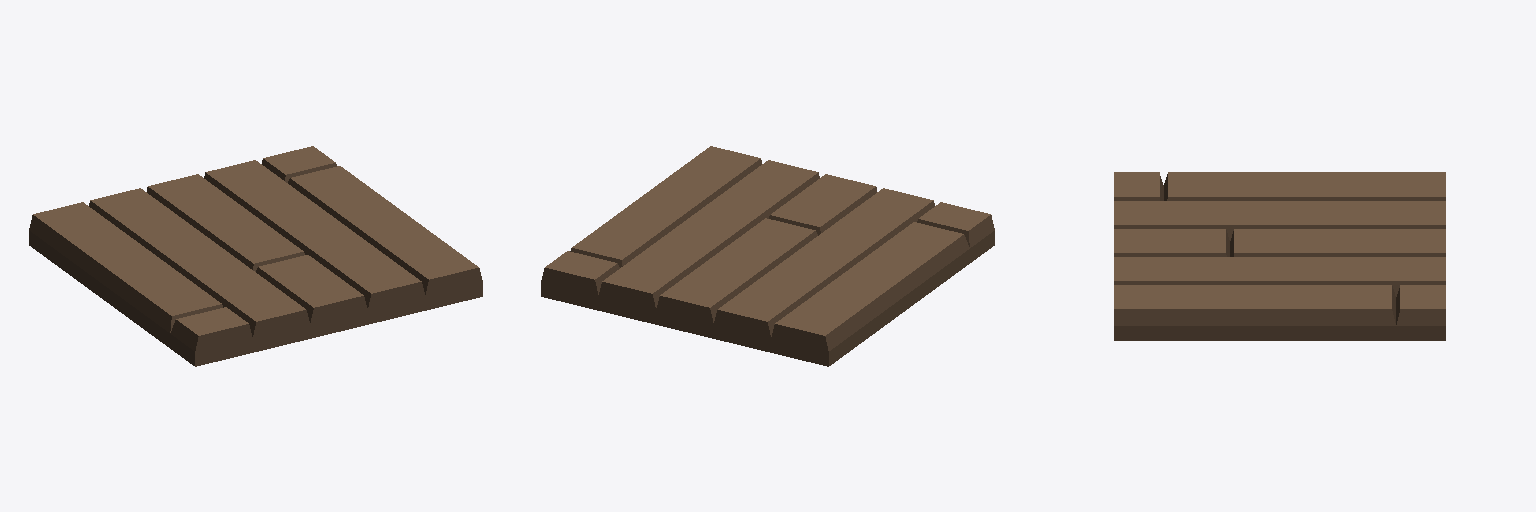
The model's file is Wood_Floor_Straight_4.obj.
3 renders of one model, left to right at view 1: azimuth 30°, elevation 25°; view 2: azimuth 150°, elevation 25°; view 3: azimuth 270°, elevation 25°, orthographic.
Visible parts, largest first — view 1: object1; view 2: object1; view 3: object1.
Part boxes in pixels (x1,y1,x2,y2): object1: (29, 146, 482, 366); object1: (541, 146, 994, 366); object1: (1114, 172, 1445, 340).
Size of the model in its own units: 1 by 0.1 by 1.